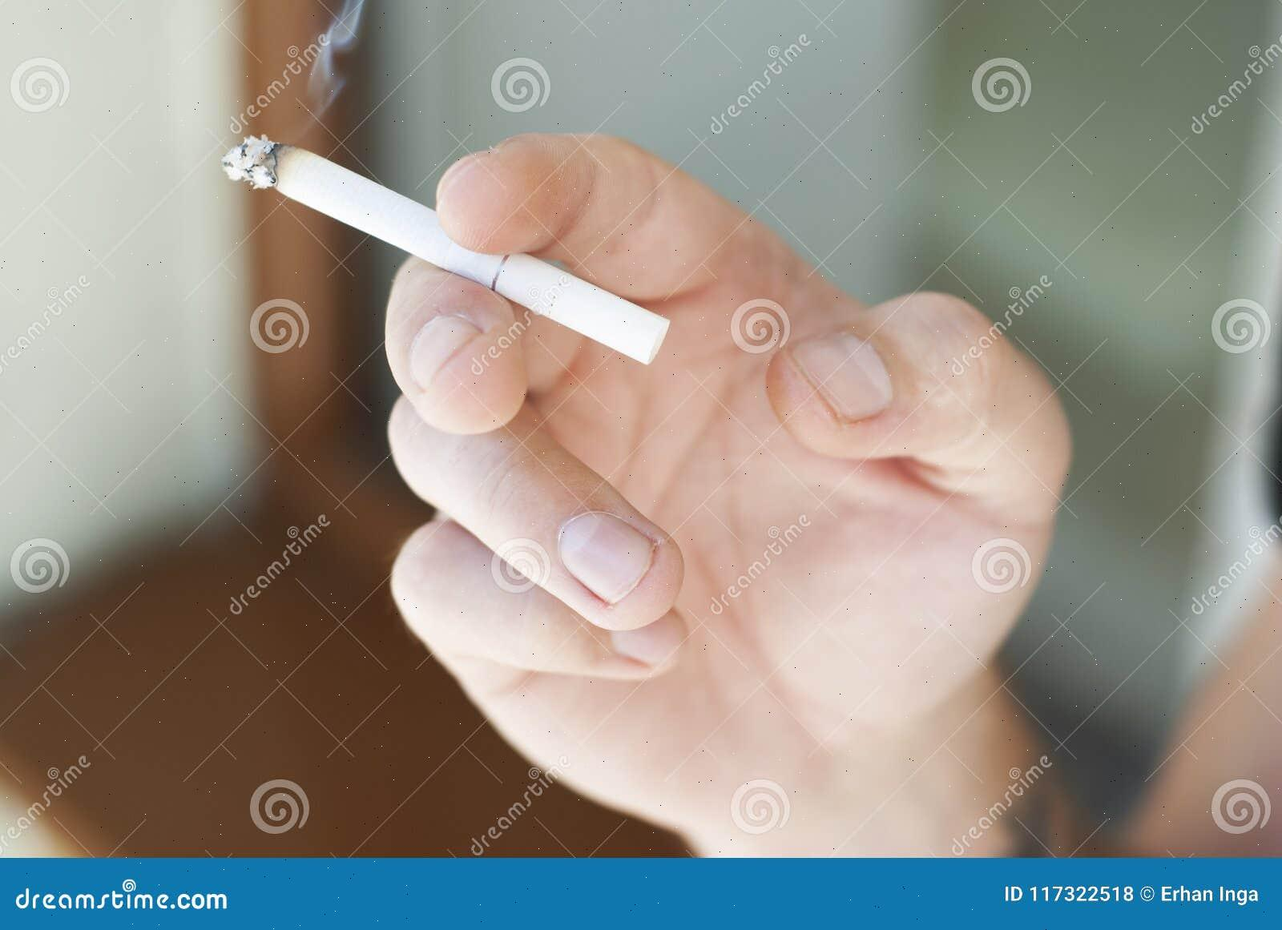cigarette: (222, 136, 668, 363)
